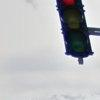Traffic light: (52, 0, 94, 62)
